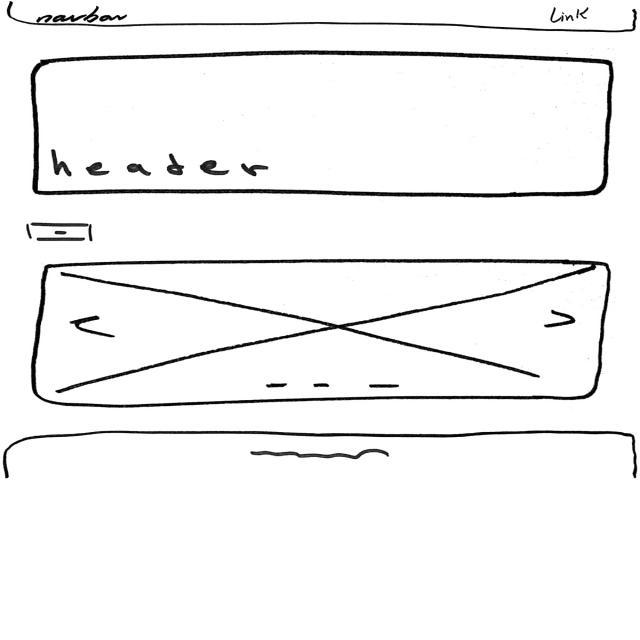container: (29, 49, 616, 198), (4, 0, 639, 31)
icon-button: (24, 222, 98, 244)
image: (30, 260, 613, 408)
label: (46, 148, 268, 178), (34, 6, 130, 22), (548, 6, 590, 24)
text: (249, 447, 390, 461)
